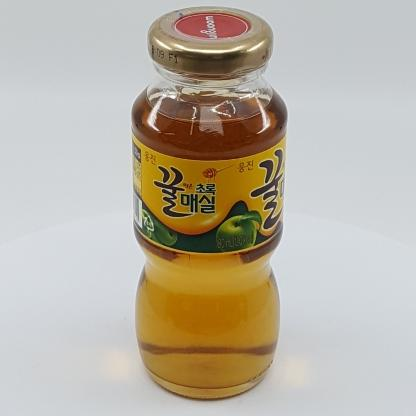-------180ML: (131, 6, 287, 399)
